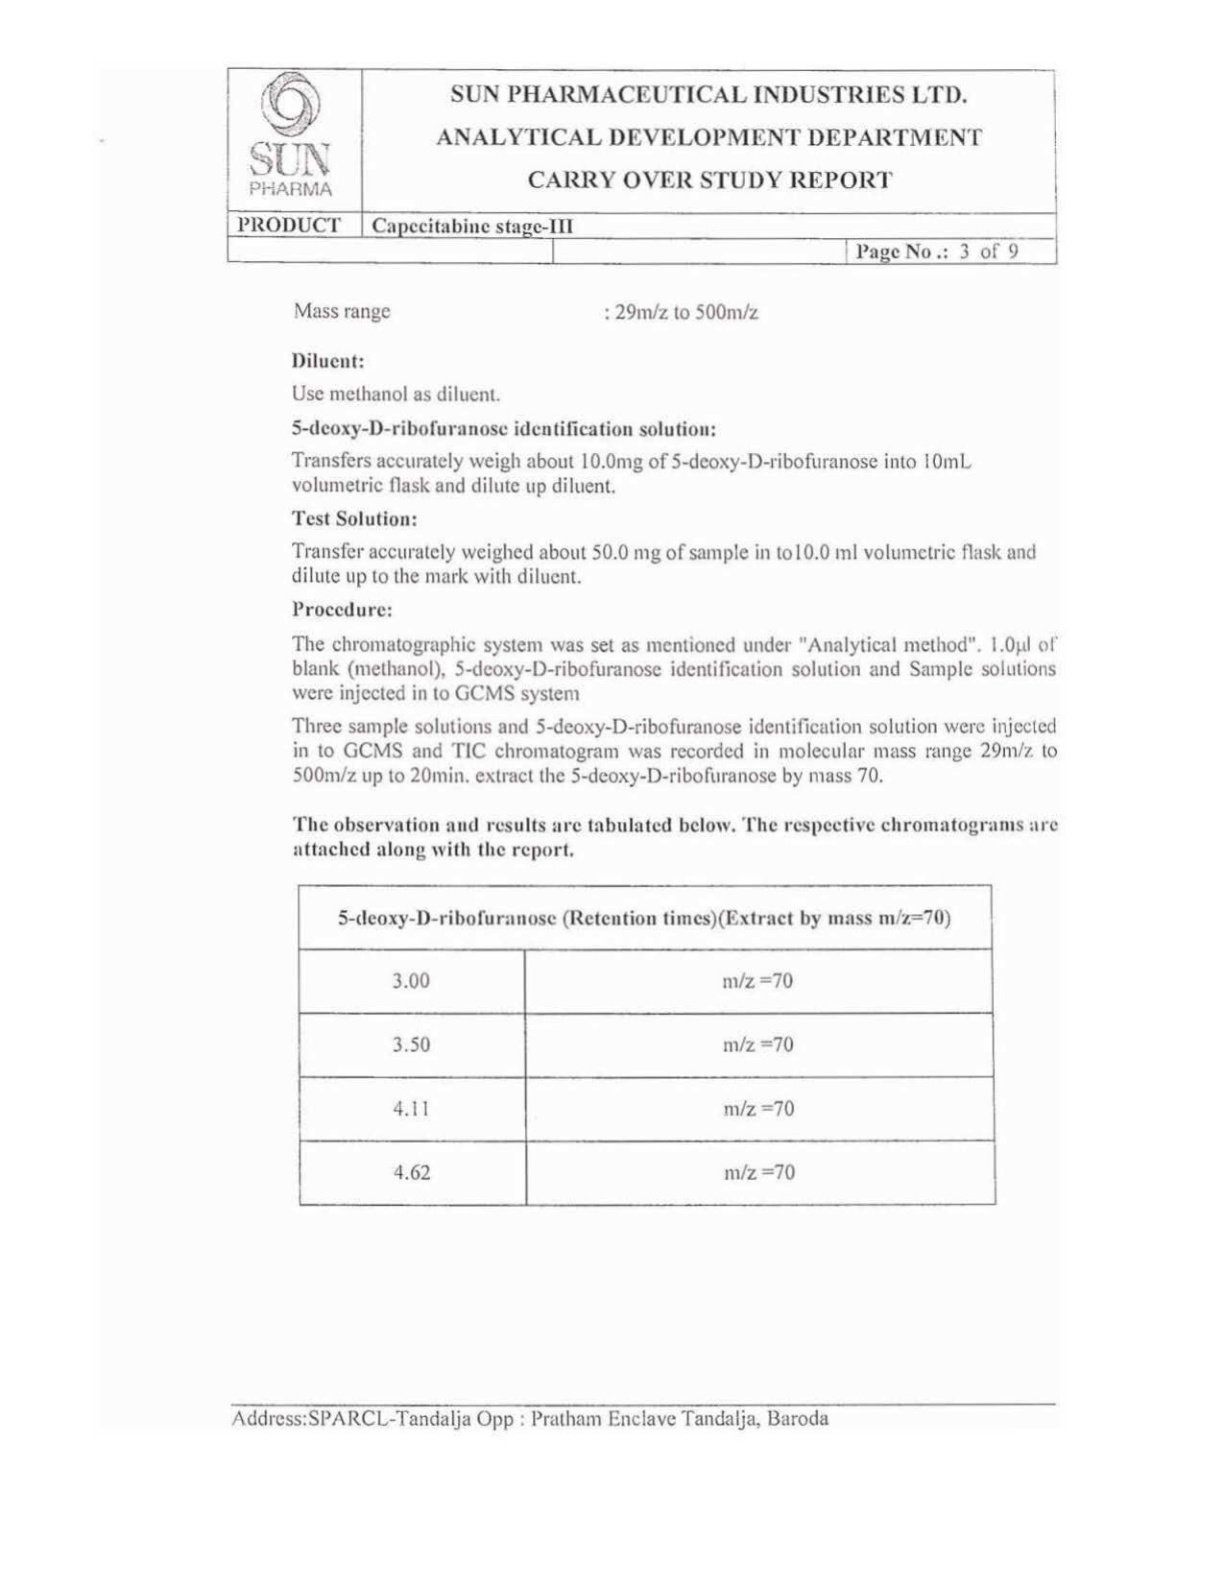merged_cells: (296, 882, 999, 1207), (225, 66, 1059, 266)
